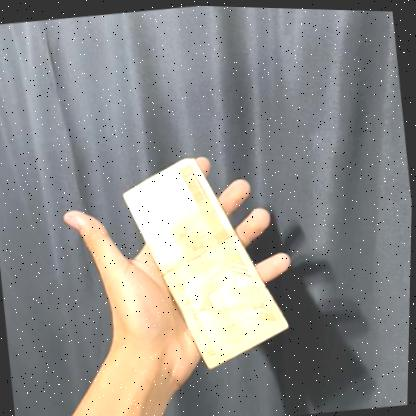five-back-vef: (116, 144, 297, 379)
